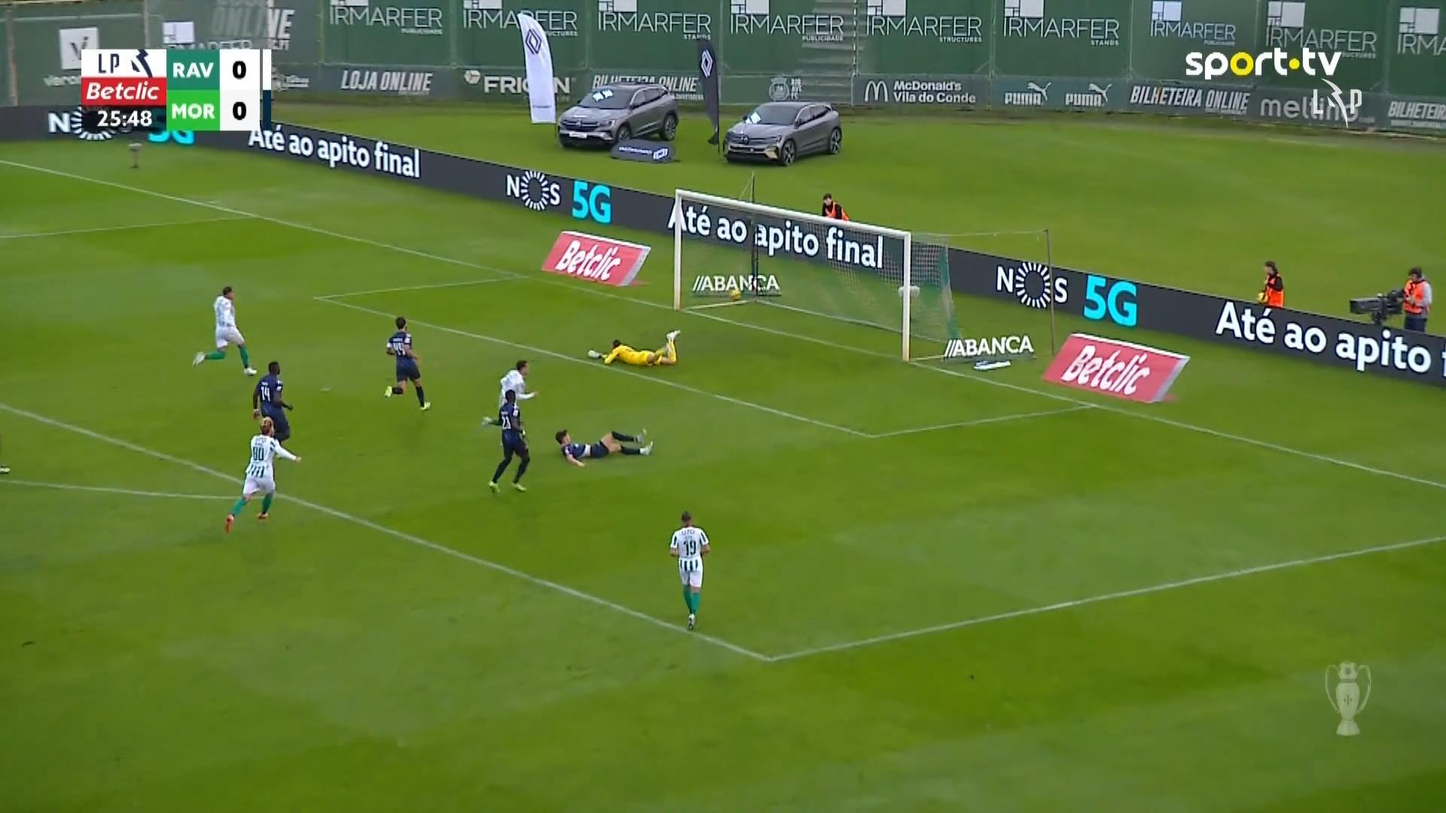ball: (728, 289, 742, 302)
goalkeeper: (587, 328, 681, 367)
player: (223, 416, 301, 533), (191, 285, 258, 376), (668, 510, 710, 631), (487, 389, 532, 493), (383, 315, 431, 410), (554, 427, 654, 467), (251, 360, 294, 445), (495, 358, 538, 425)
